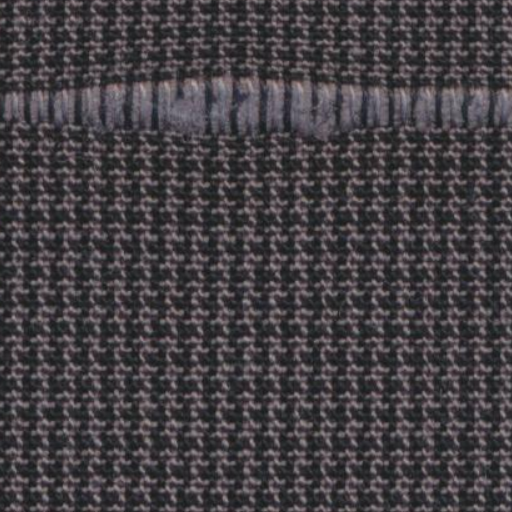DaiSha: (8, 66, 500, 142)
